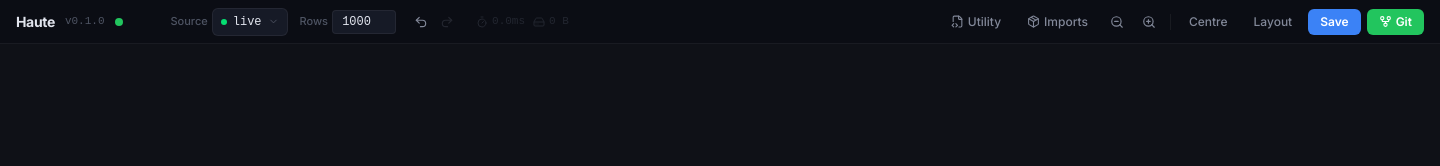
Scenario: Toolbar › switching source updates store
The image size is (1440, 166).
Click the button titled "Data source": click(250, 22) [212,8,288,36]
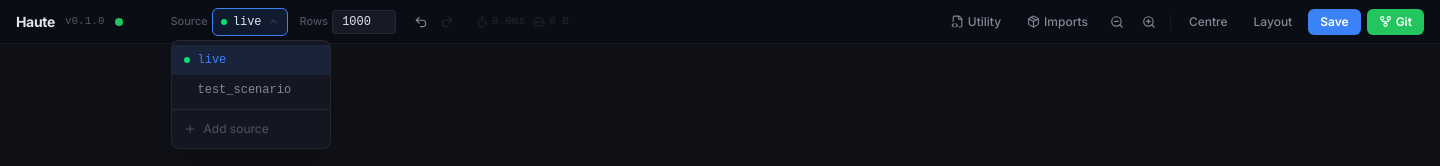
Click the button "test_scenario": click(250, 90) [172,74,330,104]
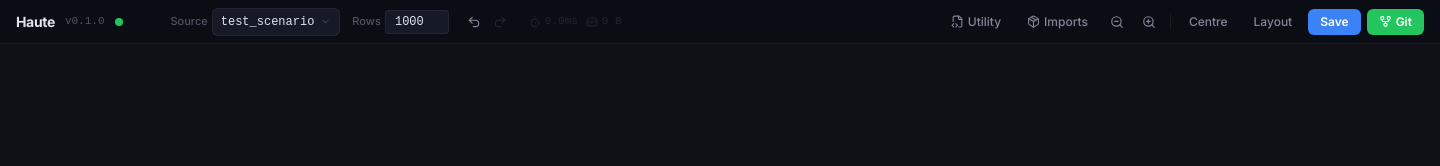
Expected: the text "test_scenario" is shown, [221,12,314,30]
